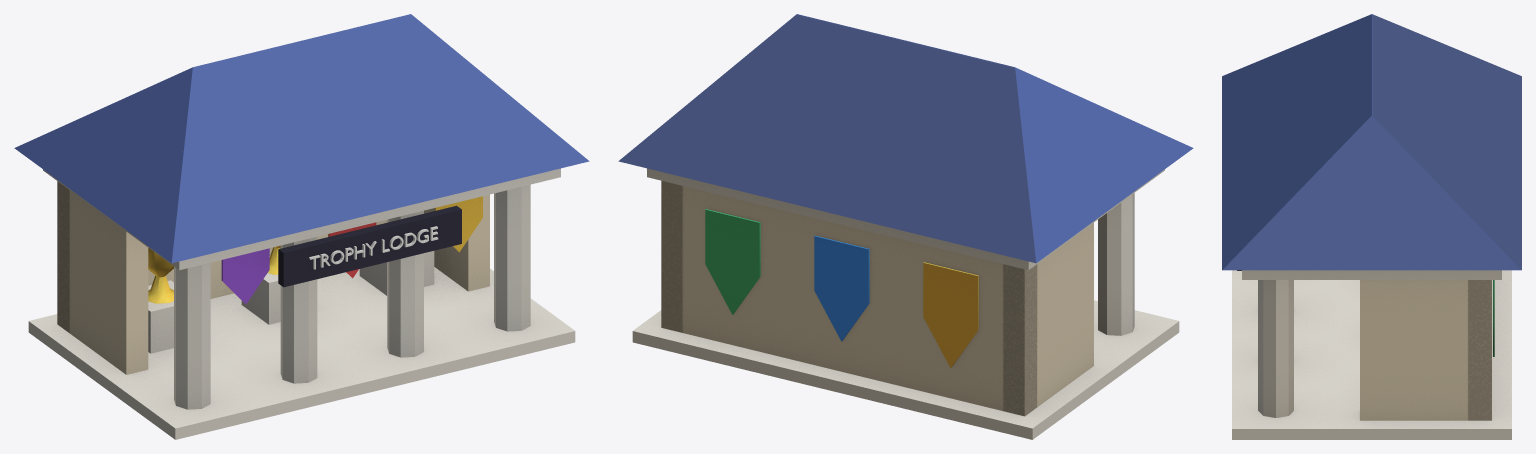
Rendered from home_lodge_2.fbx.
3 views of the same model, side by side, from view 1: azimuth 30°, elevation 25°; view 2: azimuth 150°, elevation 25°; view 3: azimuth 270°, elevation 25° (orthographic). The views are drawn at different scales.
Parts seen in each view (by area): view 1: home_lodge_2_body; view 2: home_lodge_2_body; view 3: home_lodge_2_body.
Boxes of the visible parts, x1,y1,x2,y2 form: home_lodge_2_body: (14,14,589,439); home_lodge_2_body: (618,14,1193,439); home_lodge_2_body: (1222,14,1521,439).
Size of the model in its own units: 2300 by 1560 by 1500.
Materials: 1 (1 with a texture image).
